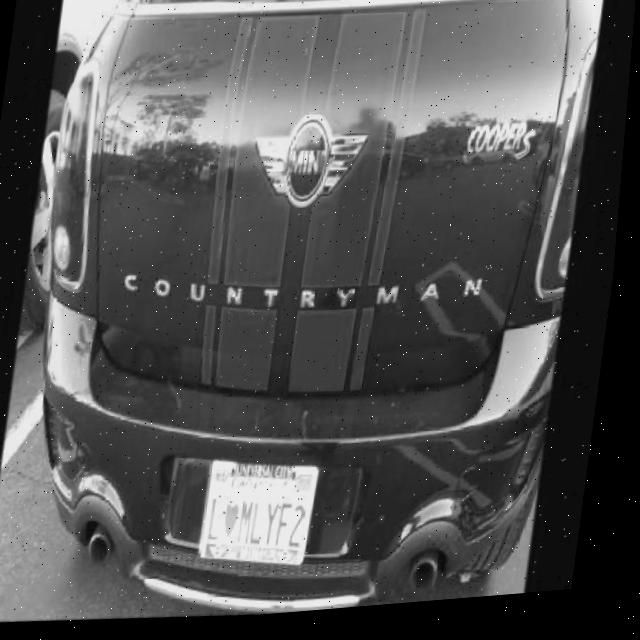LicensePlate: (203, 456, 331, 581)
